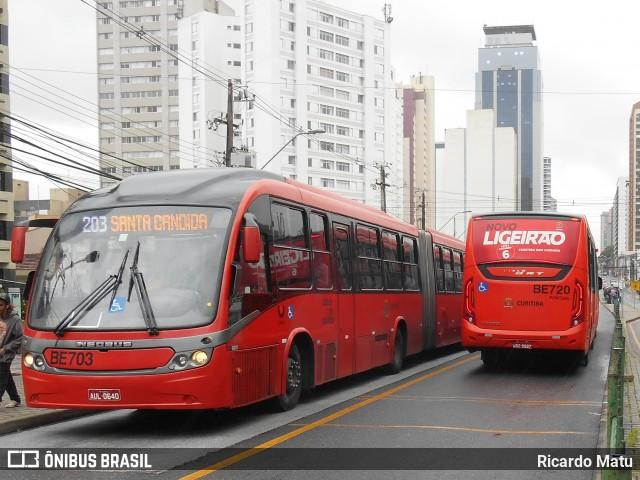SANTA CANDIDA: (107, 209, 213, 235)
